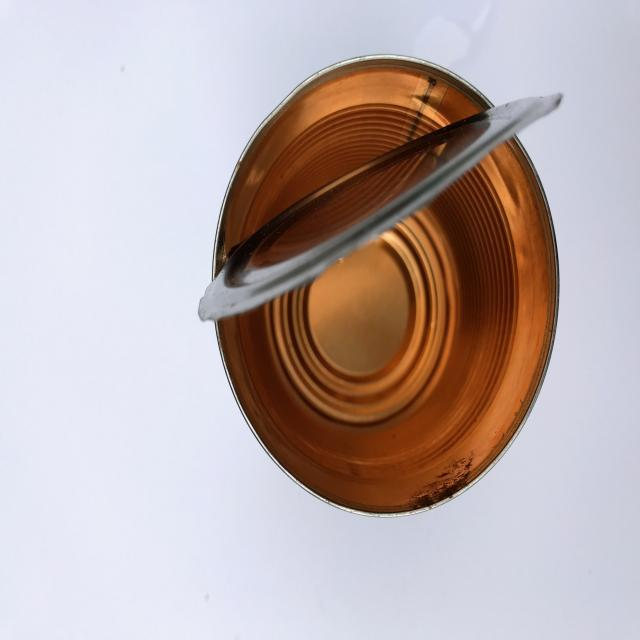metal: (200, 54, 562, 517)
